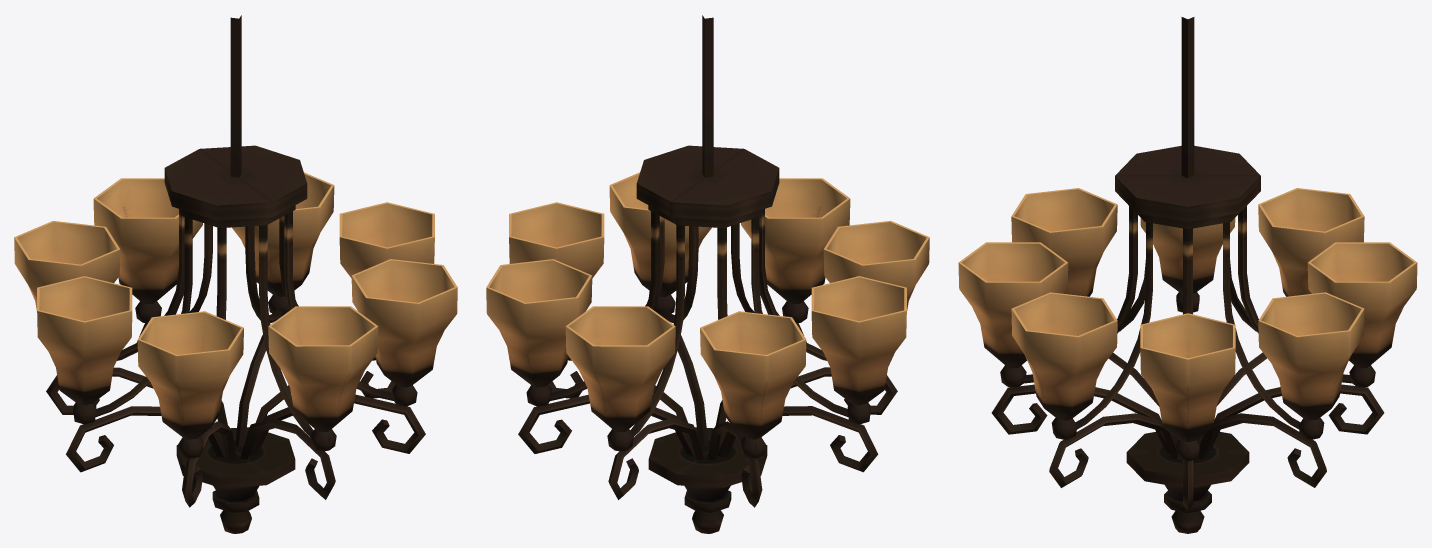
Rendered from Lamp_03.gltf.
The picture shows the model from 3 angles, left to right: view 1: azimuth 30°, elevation 25°; view 2: azimuth 150°, elevation 25°; view 3: azimuth 270°, elevation 25°; orthographic projection.
Visible parts, largest first — view 1: Lamp_03; view 2: Lamp_03; view 3: Lamp_03.
Part boxes in pixels (x1,y1,x2,y2): Lamp_03: [14, 15, 457, 533]; Lamp_03: [486, 15, 929, 533]; Lamp_03: [958, 17, 1417, 533].
Size of the model in its own units: 46.92 by 58.35 by 46.92.
1 material, 1 textured.
